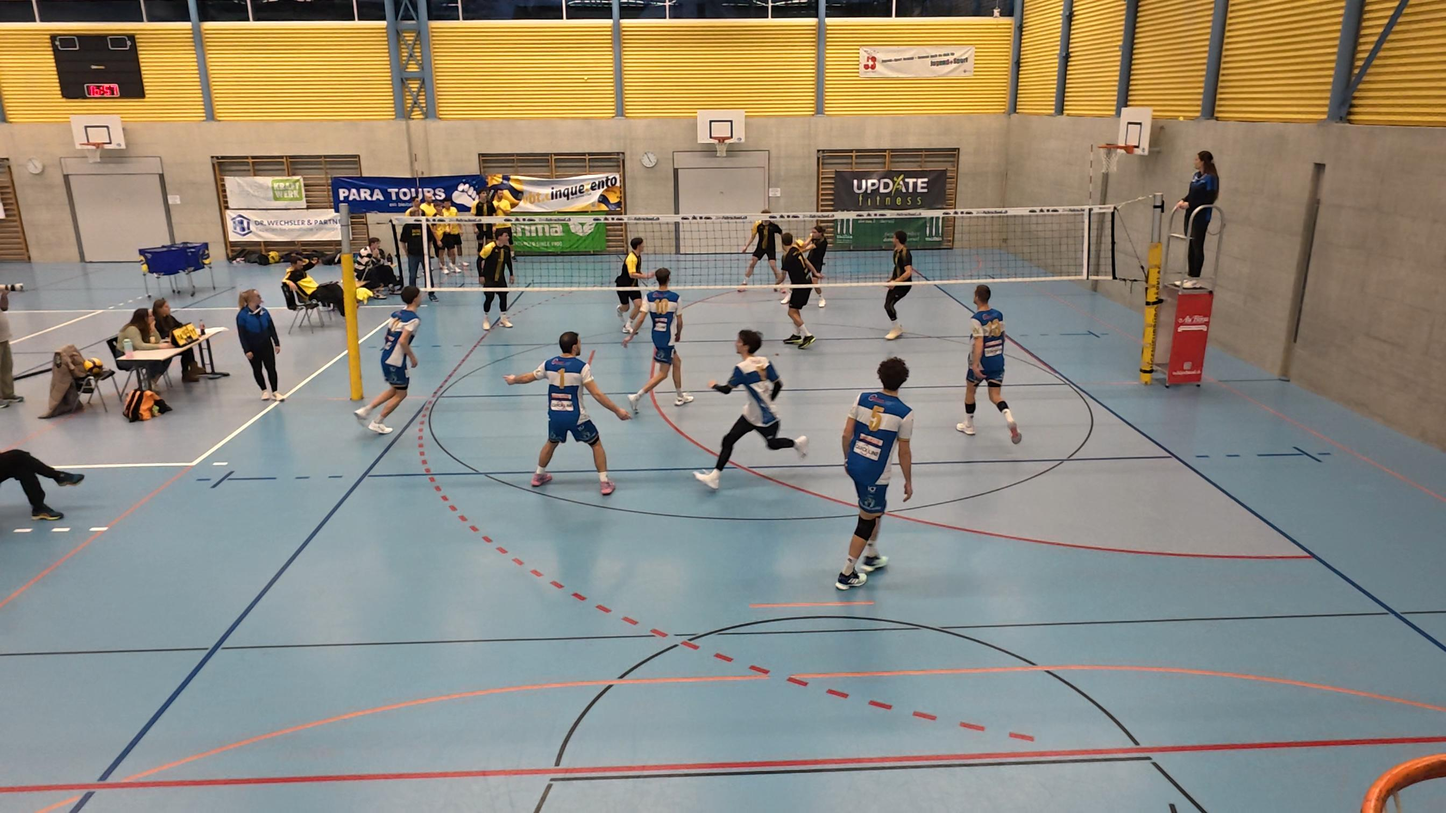Player: (506, 331, 628, 495), (834, 358, 913, 589), (697, 331, 808, 490), (955, 284, 1022, 444), (355, 298, 423, 436), (638, 275, 693, 407), (470, 220, 522, 334), (778, 234, 820, 350), (736, 210, 785, 292), (882, 233, 917, 340), (614, 234, 644, 339)
Receive: (778, 218, 827, 312)
ball: (792, 233, 806, 250)
